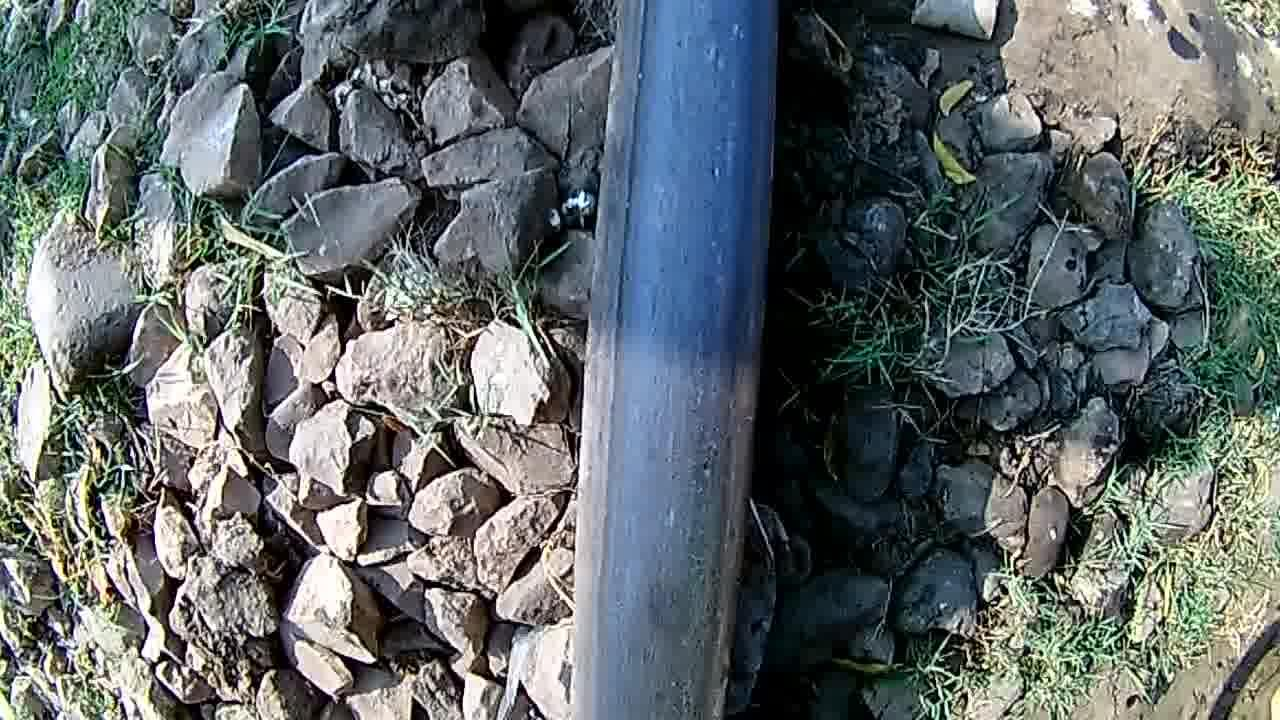bolt_missing: (593, 464, 731, 720)
